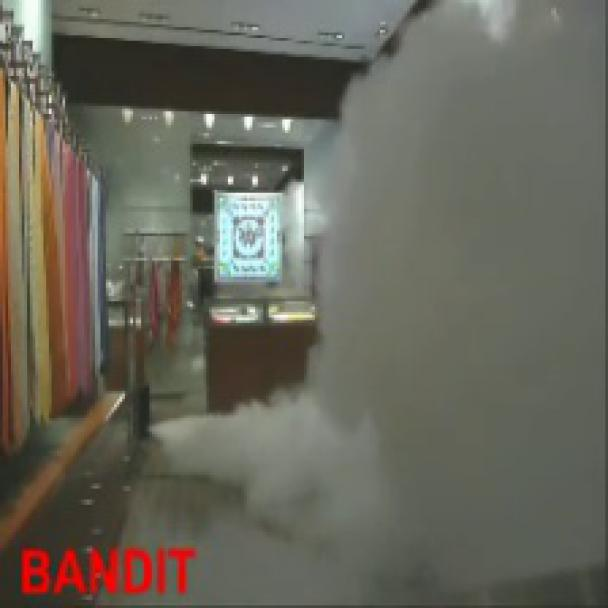smoke: (130, 3, 606, 605)
